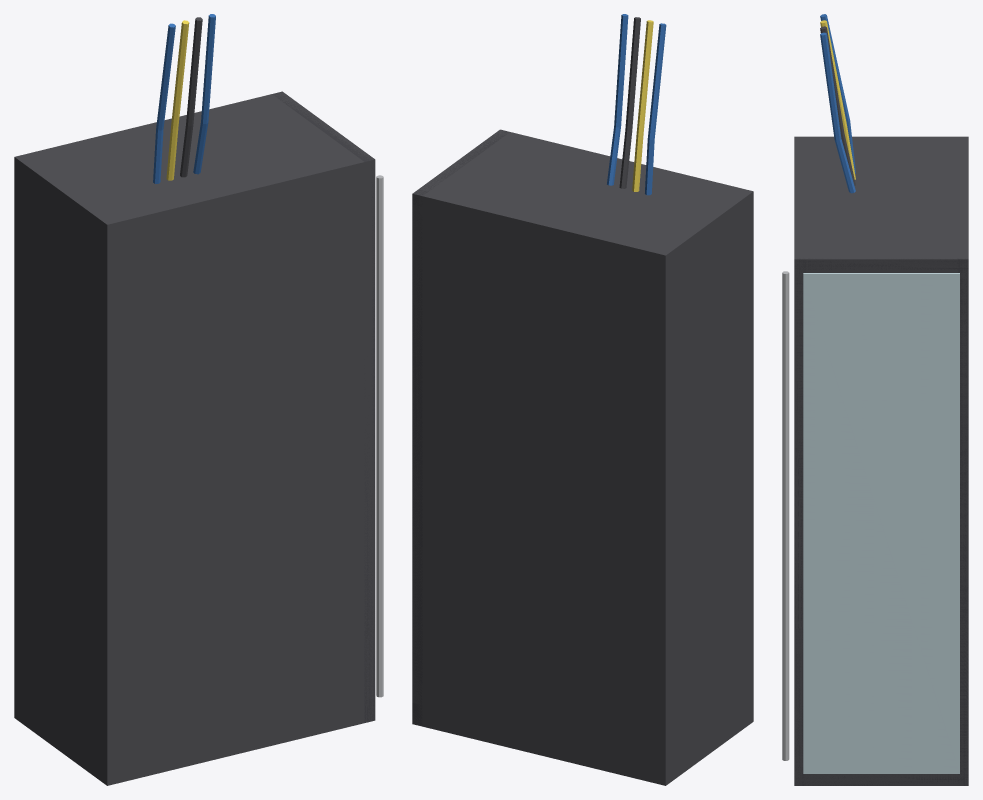
The model's file is SM_Prop_ServerRack.fbx.
The picture shows the model from 3 angles, left to right: view 1: azimuth 30°, elevation 25°; view 2: azimuth 150°, elevation 25°; view 3: azimuth 270°, elevation 25°; orthographic projection. The views are drawn at different scales.
Visible parts, largest first — view 1: SM_Prop_ServerRack; view 2: SM_Prop_ServerRack; view 3: SM_Prop_ServerRack.
Part boxes in pixels (x1=…): SM_Prop_ServerRack: x1=14, y1=14, x2=383, y2=785; SM_Prop_ServerRack: x1=412, y1=14, x2=753, y2=785; SM_Prop_ServerRack: x1=782, y1=14, x2=968, y2=785.
Size of the model in its own units: 0.642 by 1.01 by 2.6.
